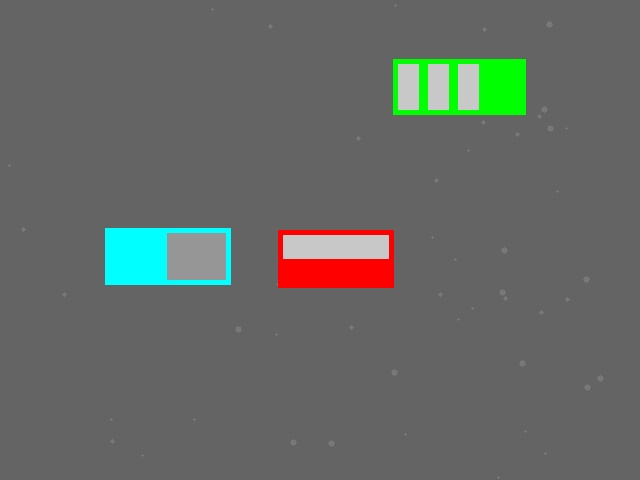bus: (393, 59, 525, 114)
car: (278, 230, 393, 287)
truck: (105, 228, 230, 284)
